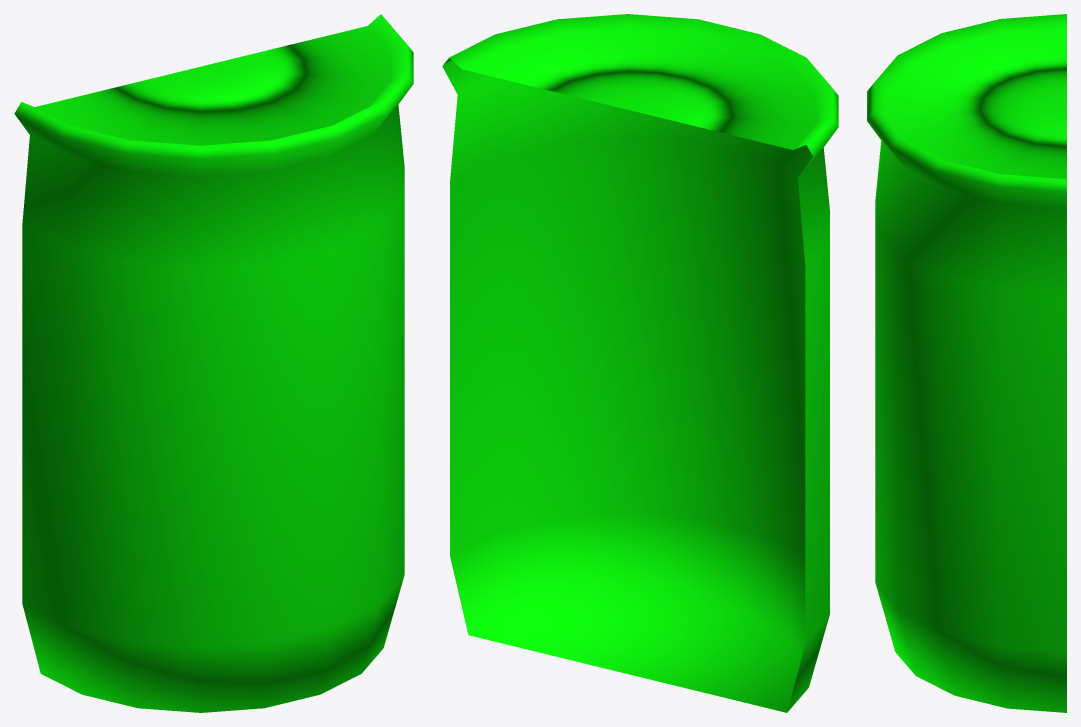
Rendered from red_barrel.dae.
3 renders of one model, left to right at view 1: azimuth 30°, elevation 25°; view 2: azimuth 150°, elevation 25°; view 3: azimuth 270°, elevation 25°, orthographic. The views are drawn at different scales.
Visible parts, largest first — view 1: Plane; view 2: Plane; view 3: Plane.
Boxes of the visible parts, x1,y1,x2,y2 form: Plane: (14, 14, 413, 712); Plane: (442, 14, 838, 712); Plane: (867, 14, 1066, 712).
Size of the model in its own units: 0.6056 by 0.2982 by 0.8934.
